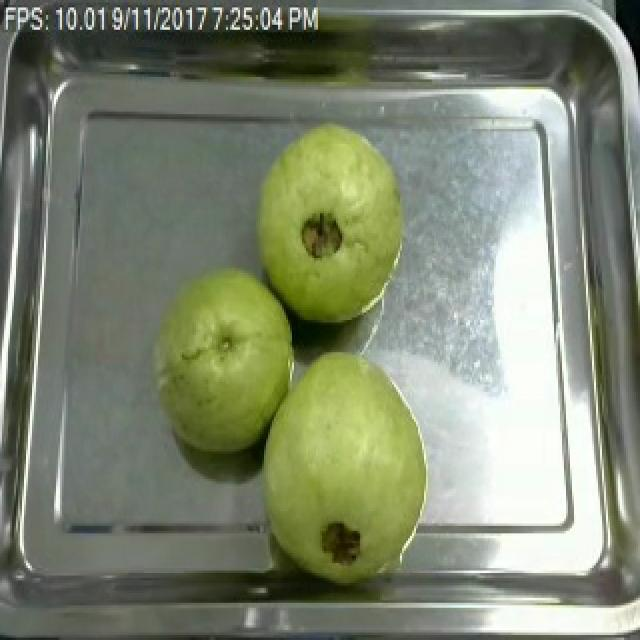Fruit: (242, 345, 440, 595), (246, 114, 416, 330), (138, 258, 304, 461)
